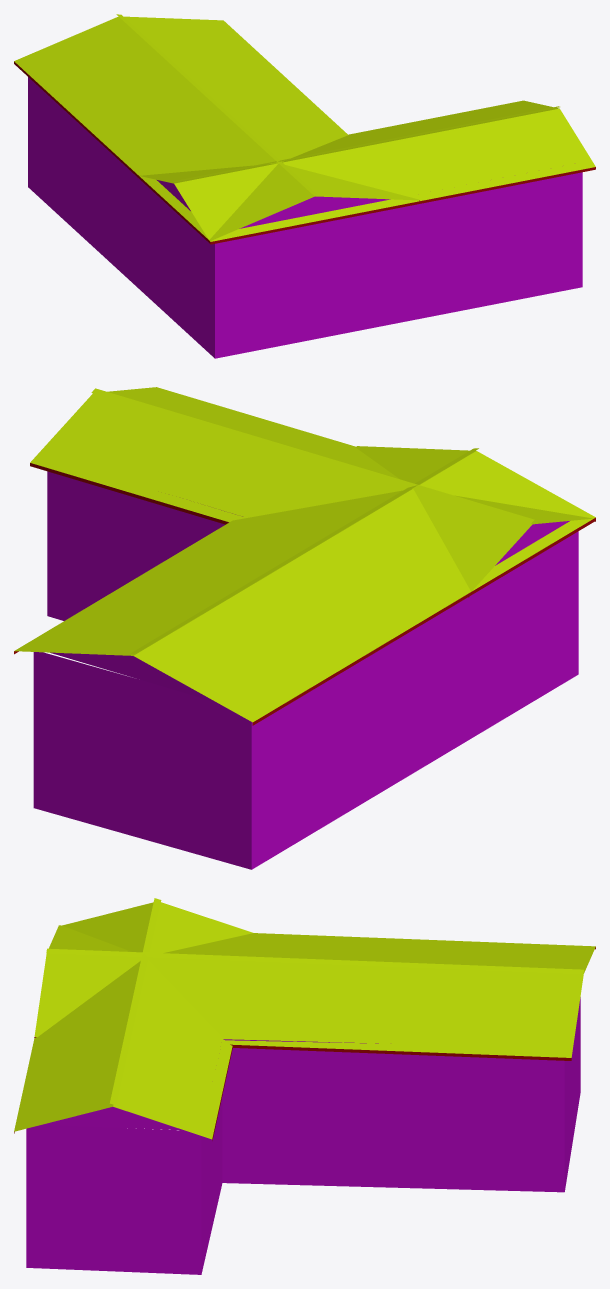
Rendered from vzc_64.glb.
3 renders of one model, top to bottom at view 1: azimuth 30°, elevation 25°; view 2: azimuth 150°, elevation 25°; view 3: azimuth 270°, elevation 25°, orthographic. The views are drawn at different scales.
Parts seen in each view (by area): view 1: vzc_64; view 2: vzc_64; view 3: vzc_64.
Boxes of the visible parts, x1,y1,x2,y2 form: vzc_64: (14, 14, 595, 358); vzc_64: (14, 387, 595, 869); vzc_64: (14, 898, 595, 1274).
Bounding box in the file's own units: 17.82 × 6.73 × 20.56.
